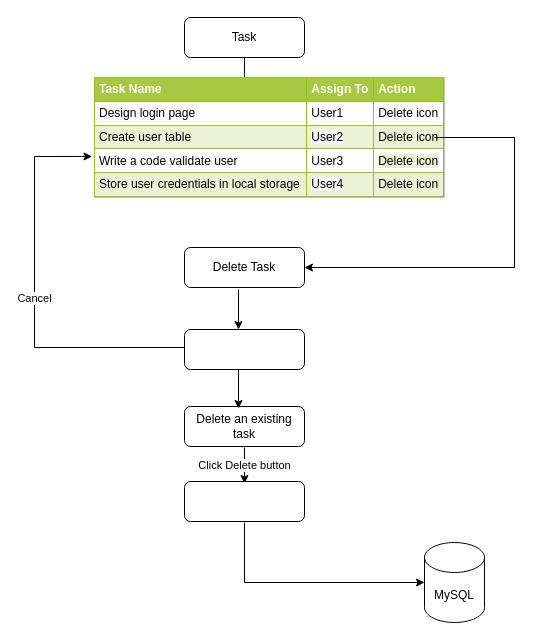
Image size: 540x640. Some labels were removed from this diagram. Each missing label, with the centre of its shape:
"Call API" belongs at (244,501).
"Model dialog with data" belongs at (244,349).
